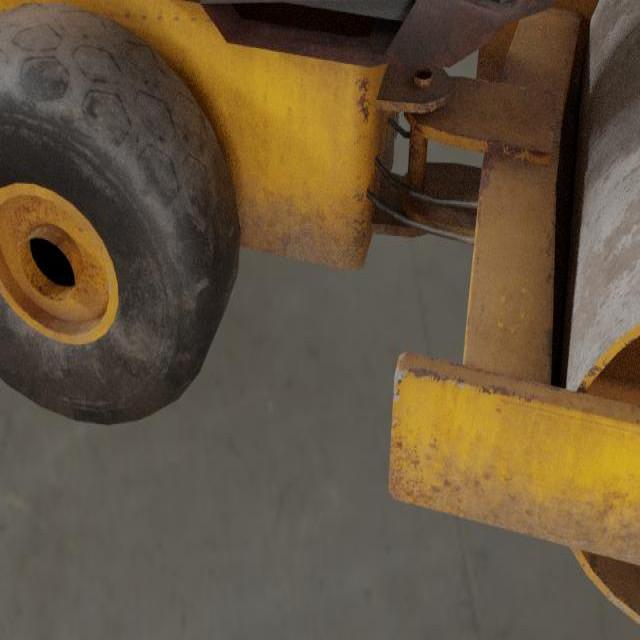Roller: (0, 0, 640, 625)
